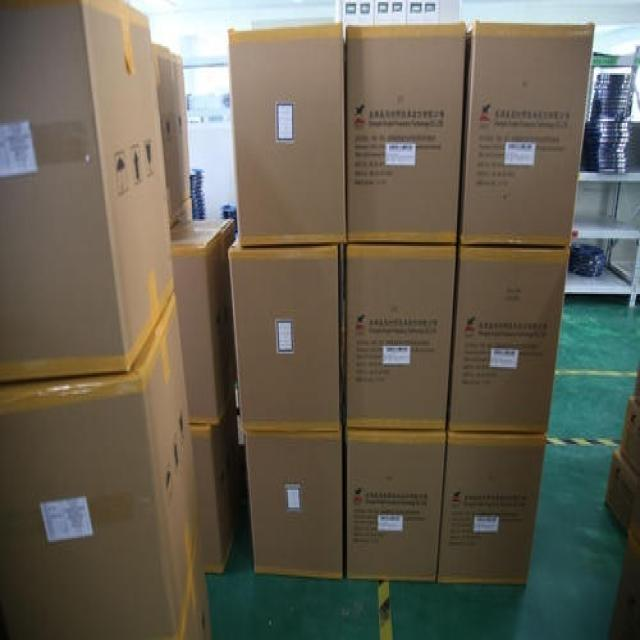box: (0, 296, 201, 638), (0, 0, 174, 382), (462, 19, 595, 244), (229, 21, 347, 246), (347, 21, 465, 242), (449, 248, 570, 432), (229, 246, 343, 431), (347, 248, 457, 429), (439, 432, 547, 584), (347, 432, 447, 582), (246, 432, 342, 580), (170, 219, 237, 425), (189, 404, 242, 575), (154, 44, 193, 238), (609, 484, 639, 638), (180, 540, 211, 640), (604, 452, 639, 536), (621, 396, 640, 475), (634, 361, 640, 406)
